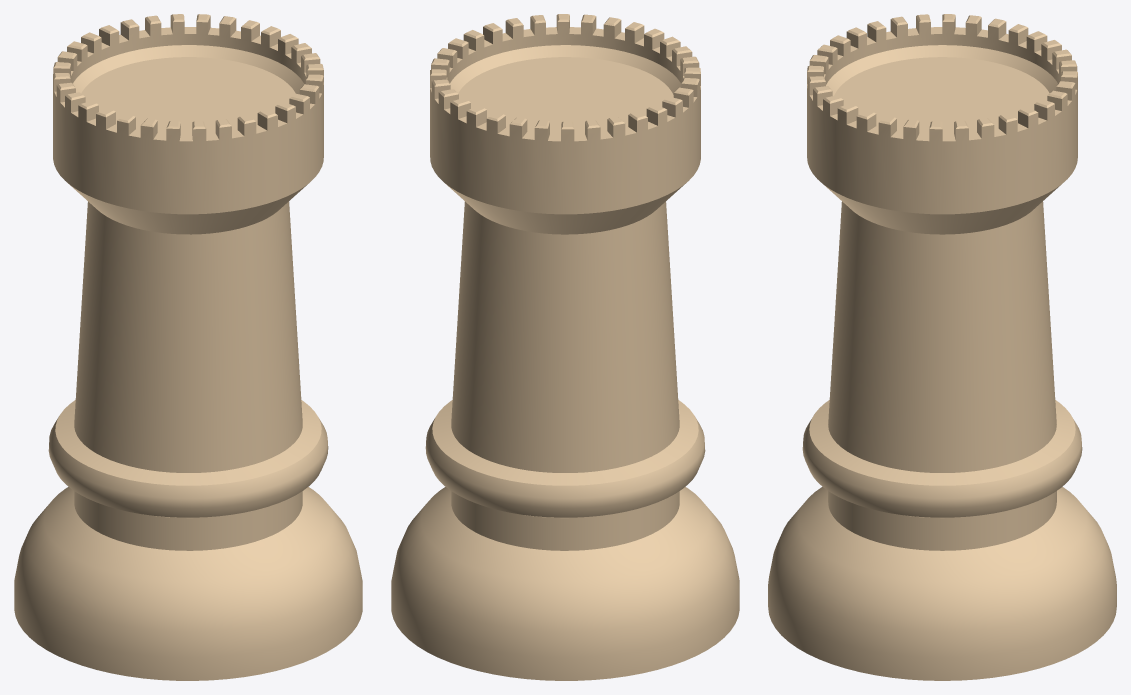
File: chess.fbx
3 renders of one model, left to right at view 1: azimuth 30°, elevation 25°; view 2: azimuth 150°, elevation 25°; view 3: azimuth 270°, elevation 25°, orthographic.
Visible parts, largest first — view 1: Cylinder; view 2: Cylinder; view 3: Cylinder.
Boxes of the visible parts, box(x1,y1,x2,y2) form: Cylinder: box(14, 14, 362, 680); Cylinder: box(391, 14, 739, 680); Cylinder: box(768, 14, 1116, 680).
Size of the model in its own units: 58.86 by 100 by 58.86.
